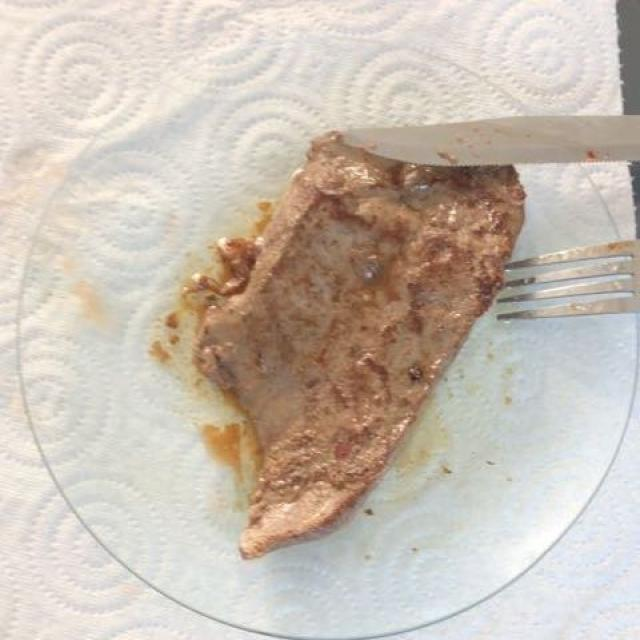beef: (155, 140, 519, 551)
butter: (175, 206, 478, 517)
